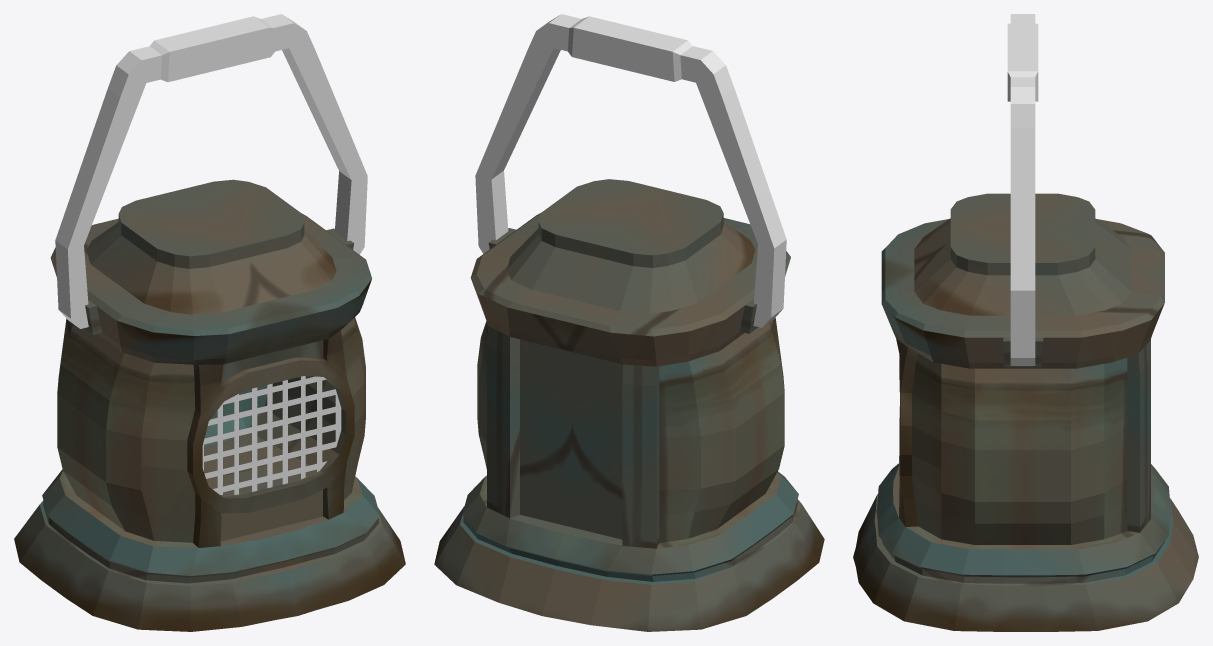
The model's file is LanternReference.fbx.
3 renders of one model, left to right at view 1: azimuth 30°, elevation 25°; view 2: azimuth 150°, elevation 25°; view 3: azimuth 270°, elevation 25°, orthographic.
Visible parts, largest first — view 1: lantern, handle, grid; view 2: lantern, handle; view 3: lantern, handle.
Boxes of the visible parts, <box> form: lantern: <box>14,179,405,631</box>; handle: <box>55,14,367,328</box>; grid: <box>202,376,341,494</box>; lantern: <box>434,179,824,631</box>; handle: <box>475,14,786,327</box>; lantern: <box>853,193,1198,631</box>; handle: <box>1007,14,1038,365</box>.
Bounding box in the file's own units: 306 × 487 × 299.
